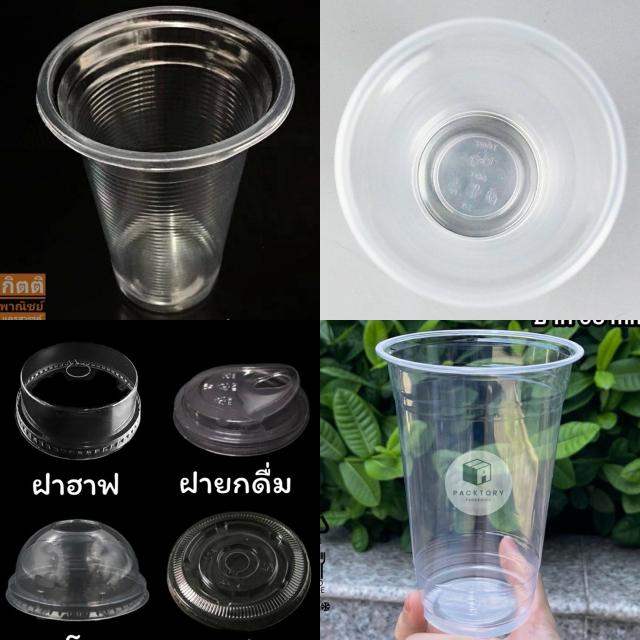Single-Use-Plastic: (335, 19, 626, 306), (36, 6, 295, 312), (376, 330, 582, 638), (168, 512, 311, 631), (15, 342, 140, 459), (6, 519, 149, 621), (174, 364, 309, 456)
